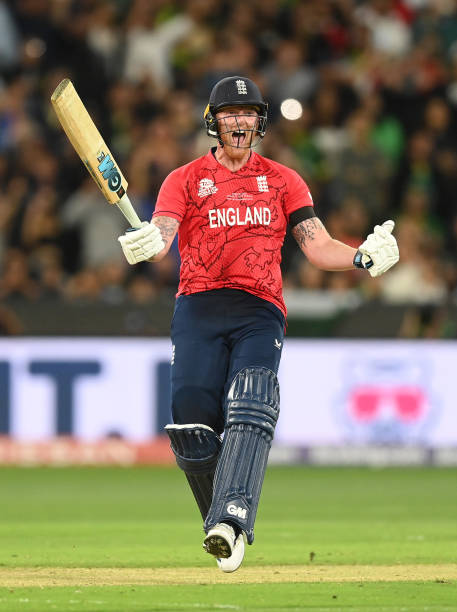bottom left: (59, 72, 79, 90)
bottom right: (42, 91, 65, 110)
top left: (122, 174, 133, 190)
top right: (101, 194, 118, 210)
